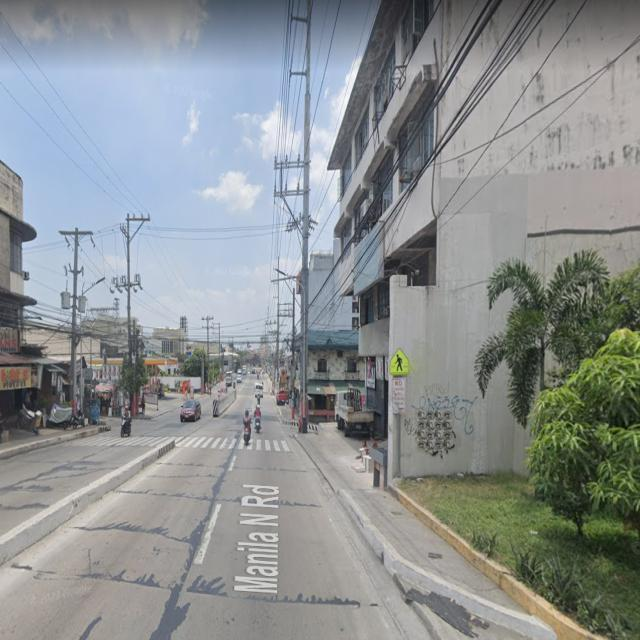pedestrian crossing: (388, 347, 411, 376)
